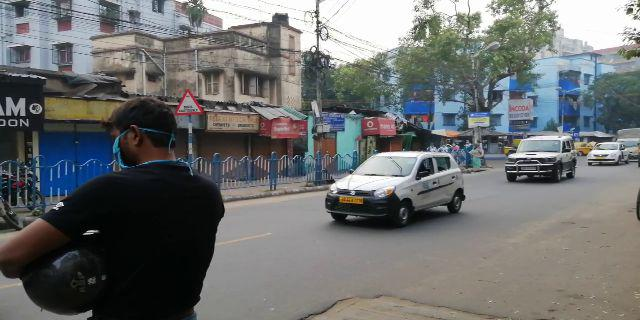Car: (321, 156, 470, 226), (501, 138, 575, 182), (587, 143, 625, 164)
